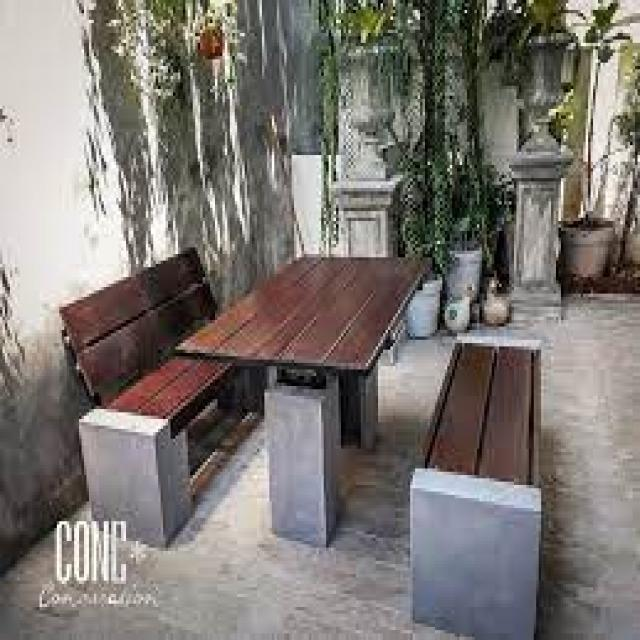table: (173, 210, 441, 412)
